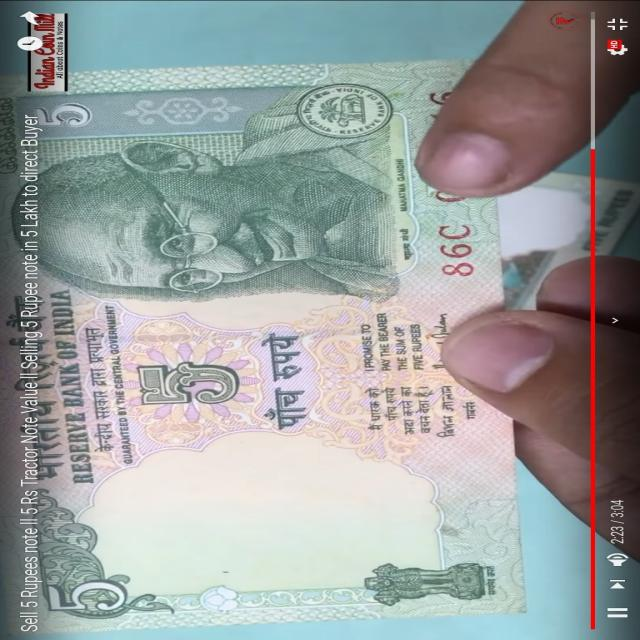5IndianRupees: (0, 63, 476, 618)
